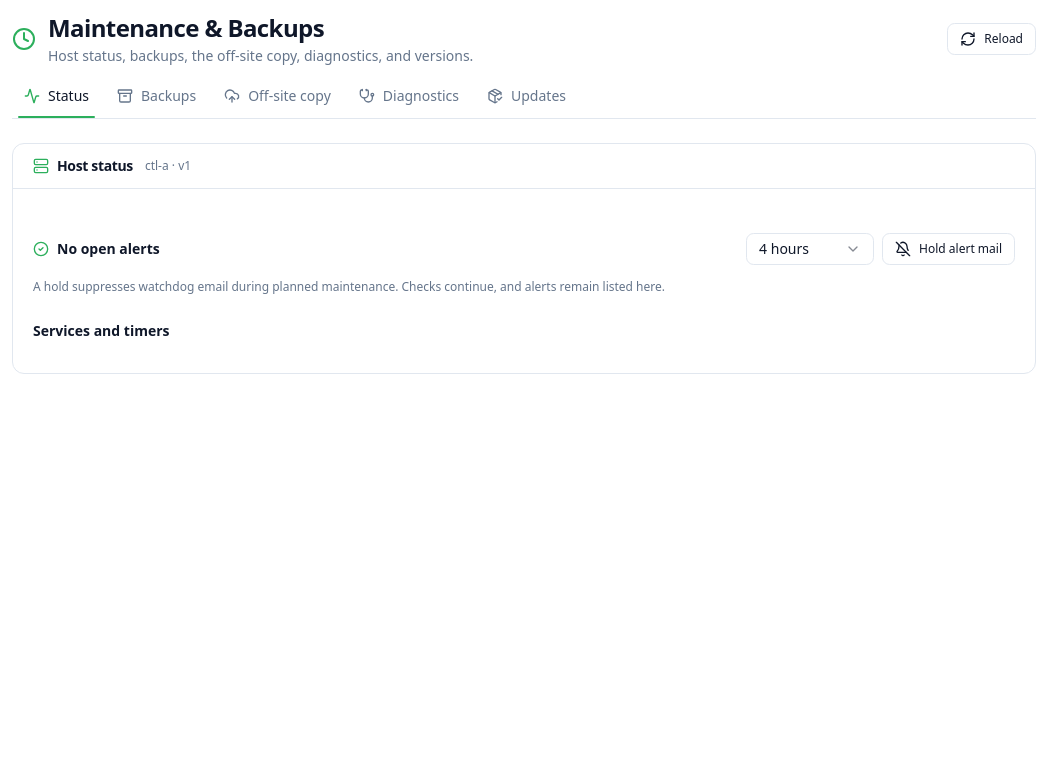
Test: UpdatesPage › opens on the host's status and moves between tabs
Expected: the heading "Host status" is shown, [33,156,133,176]
Click the tab "Off-site copy": [277, 98] box [212,78,343,118]
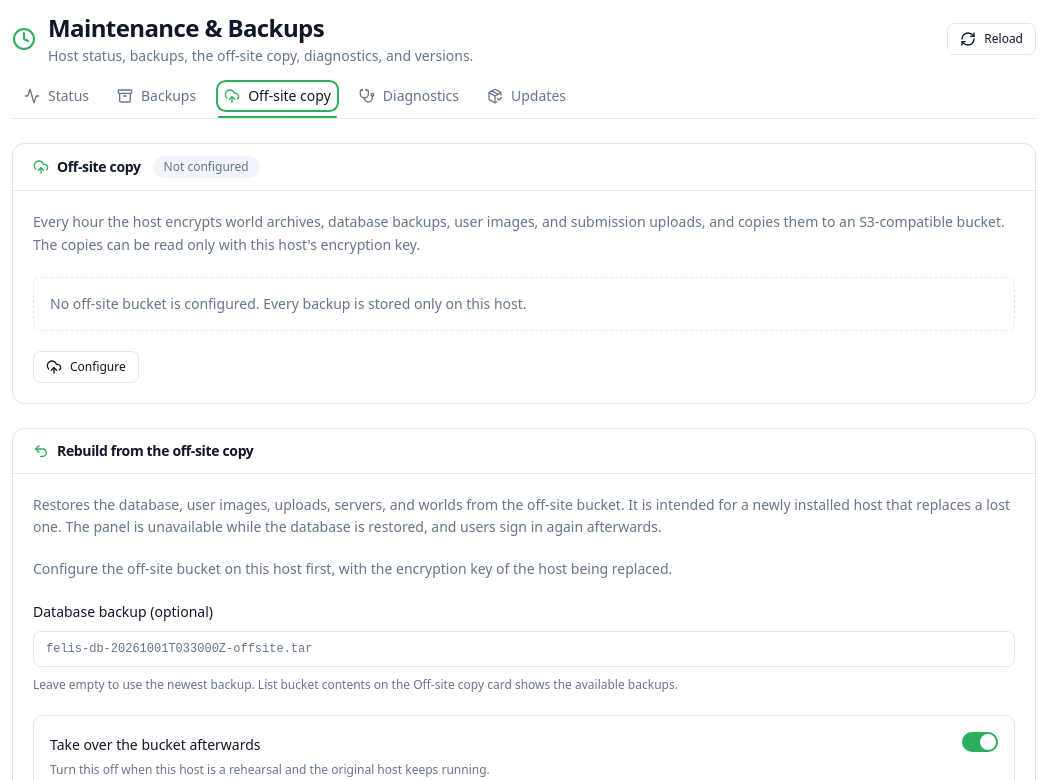
Expected: the heading "Off-site copy" is shown, [33,157,141,177]
